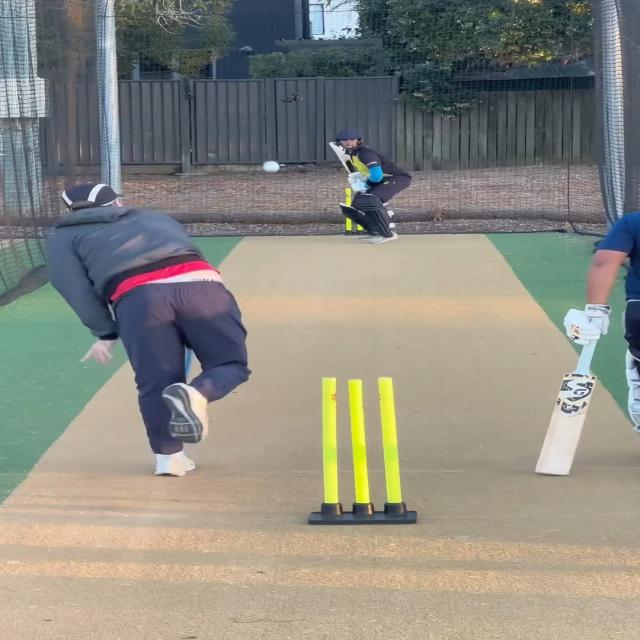ball: (260, 160, 282, 174)
stump: (307, 378, 417, 525)
